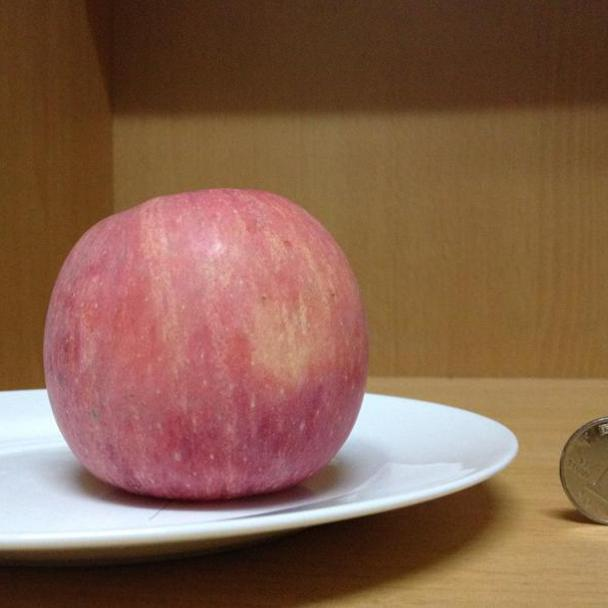apple: (42, 189, 369, 501)
